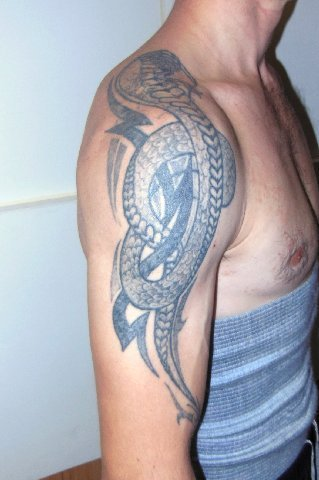tatu7_zmeya: (108, 35, 235, 429)
